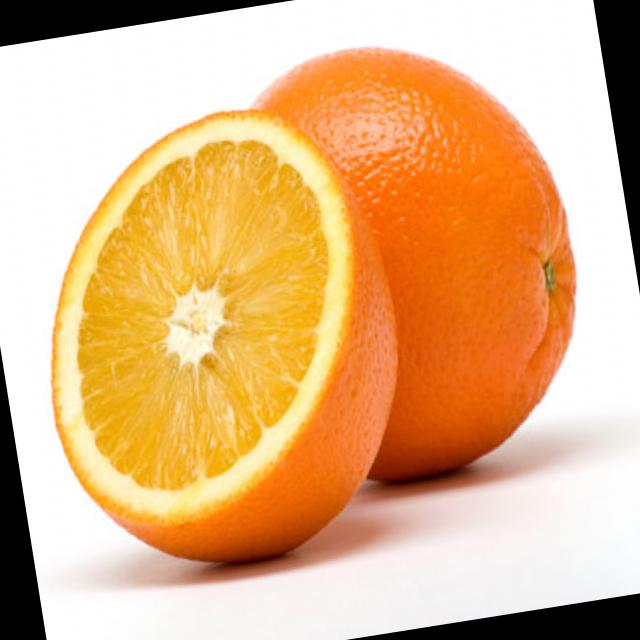orange: (162, 24, 610, 523)
